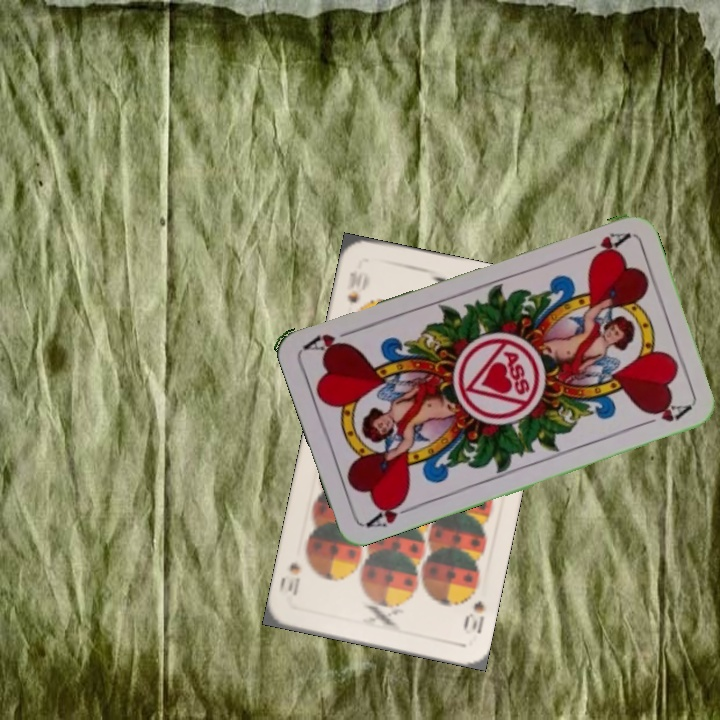HA: (361, 493, 419, 531), (574, 228, 632, 260)
S10: (459, 596, 488, 637), (342, 266, 361, 306)
